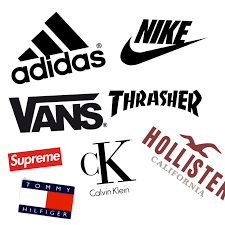adidas: (10, 12, 107, 85)
nike: (119, 37, 204, 66)
vans: (8, 93, 104, 133)
